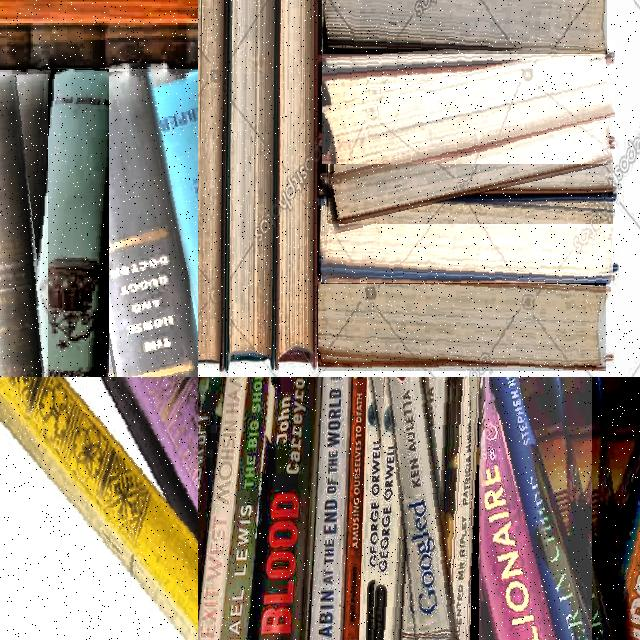Books: (71, 69, 198, 377), (322, 39, 614, 163), (327, 114, 612, 223), (440, 377, 557, 640), (506, 377, 617, 640), (318, 274, 606, 370), (21, 69, 108, 377), (321, 199, 613, 283), (255, 377, 328, 640), (384, 377, 455, 640), (226, 0, 275, 360), (118, 377, 198, 574), (323, 0, 606, 54), (219, 377, 277, 640), (583, 377, 640, 640), (275, 0, 316, 362), (198, 377, 249, 640), (310, 377, 356, 640), (0, 74, 38, 377), (435, 377, 478, 640), (198, 0, 226, 368), (359, 377, 397, 640), (343, 377, 378, 640), (198, 377, 231, 640)
